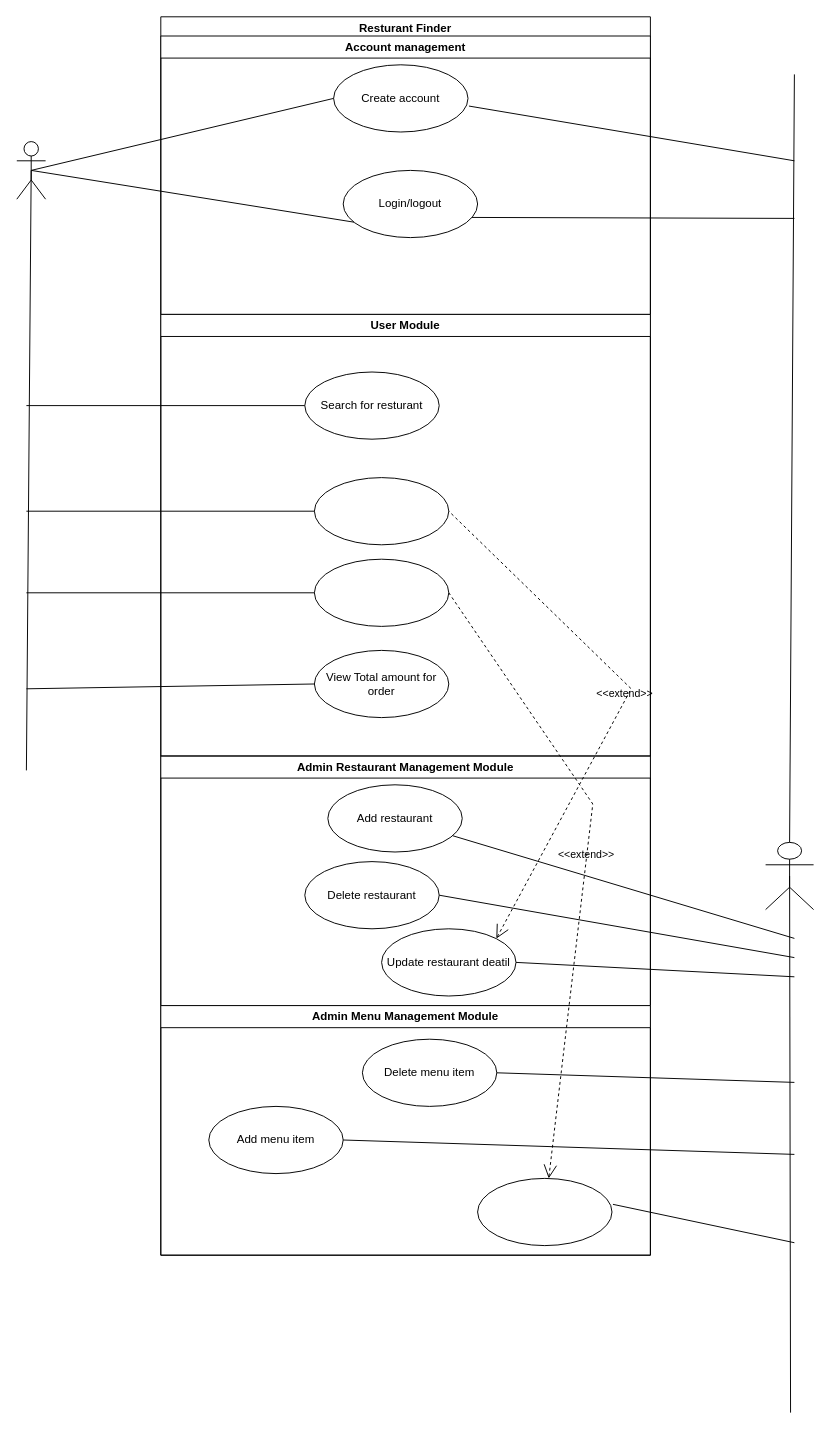
Some shapes in this 830 by 1430 pixel diagram are drawn without their labels. The centre of each missing label's shape, as x and y in pixels:
admin: the point at 789,875
Update menu item: the point at 544,1211
user: the point at 31,170
View Menu Items: the point at 381,592
View Resturant details: the point at 381,511
